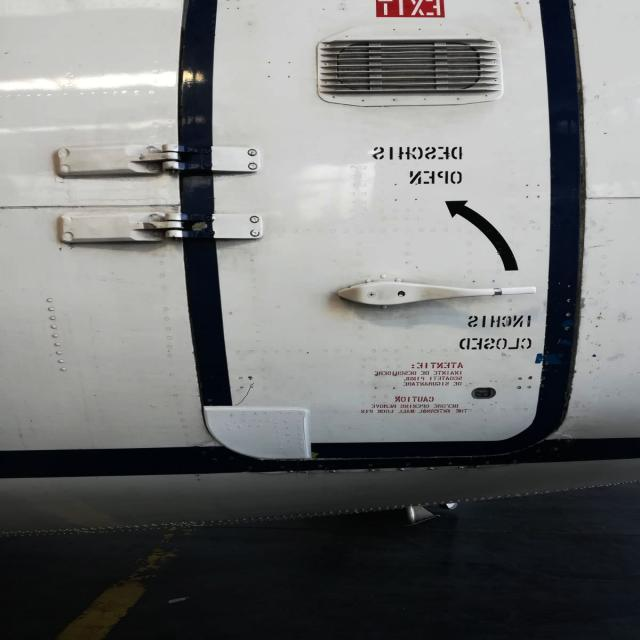crack: (232, 382, 268, 406)
